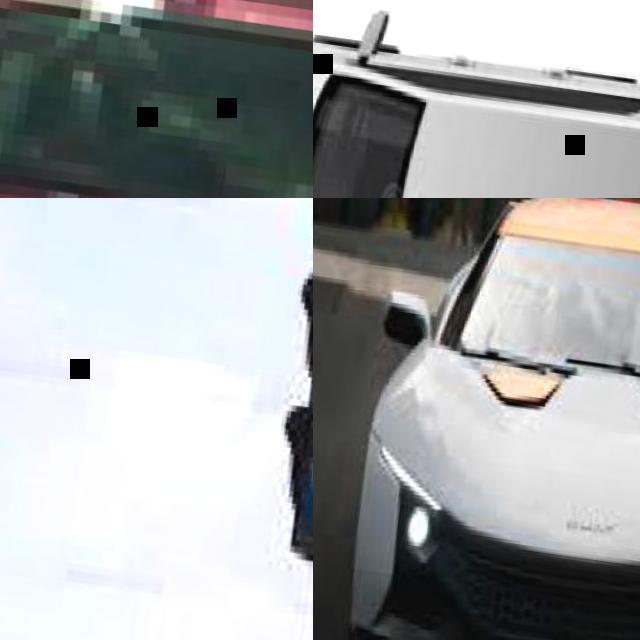car: (360, 202, 639, 639)
